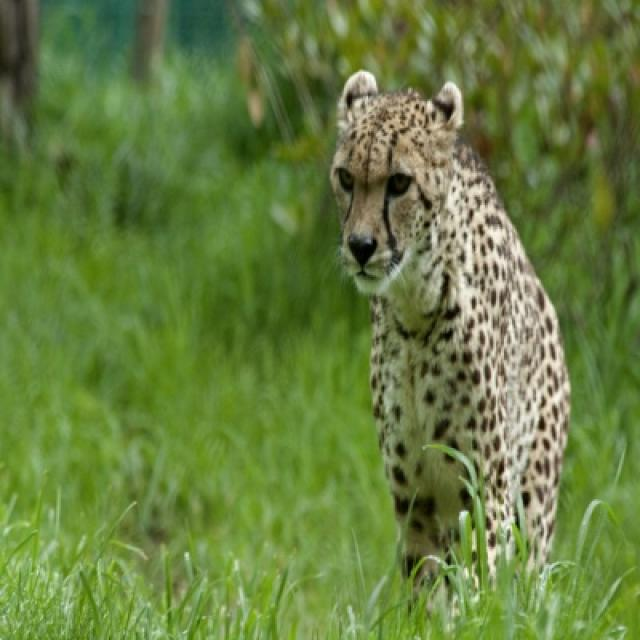Cheetah: (328, 70, 571, 586)
